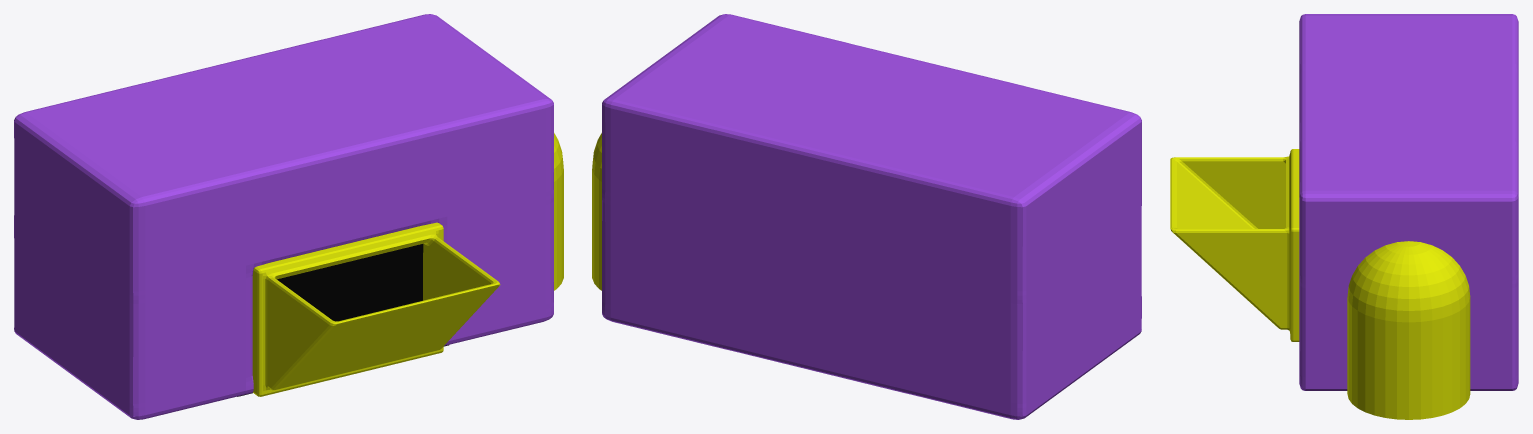
The model's file is ball collector.fbx.
3 views of the same model, side by side, from view 1: azimuth 30°, elevation 25°; view 2: azimuth 150°, elevation 25°; view 3: azimuth 270°, elevation 25° (orthographic). The views are drawn at different scales.
Parts seen in each view (by area): view 1: base, chute, screen, pipe; view 2: base, pipe; view 3: base, pipe, chute.
Boxes of the visible parts, x1=… form: base: x1=14, y1=14, x2=553, y2=419; chute: x1=252, y1=222, x2=500, y2=396; screen: x1=237, y1=244, x2=448, y2=396; pipe: x1=554, y1=133, x2=563, y2=290; base: x1=602, y1=14, x2=1141, y2=419; pipe: x1=592, y1=133, x2=601, y2=290; base: x1=1299, y1=14, x2=1518, y2=390; pipe: x1=1347, y1=241, x2=1470, y2=419; chute: x1=1170, y1=149, x2=1299, y2=341.
Size of the model in its own units: 455 by 200 by 318.
